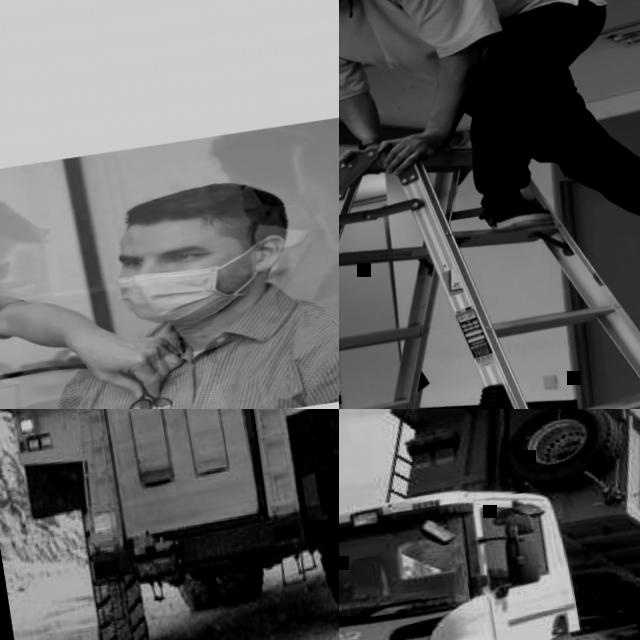Mask: (116, 257, 233, 334), (241, 178, 307, 236), (308, 211, 339, 264)
NO-Hardhat: (115, 170, 290, 253), (202, 125, 290, 180), (0, 180, 49, 260), (293, 108, 339, 177), (0, 343, 25, 378)
NO-Safety Vest: (339, 0, 585, 92)
Person: (339, 0, 640, 332), (26, 148, 339, 409), (0, 145, 174, 409), (216, 120, 327, 229), (292, 109, 339, 331), (0, 174, 53, 302)
machinery: (0, 409, 339, 640), (339, 409, 640, 640)
